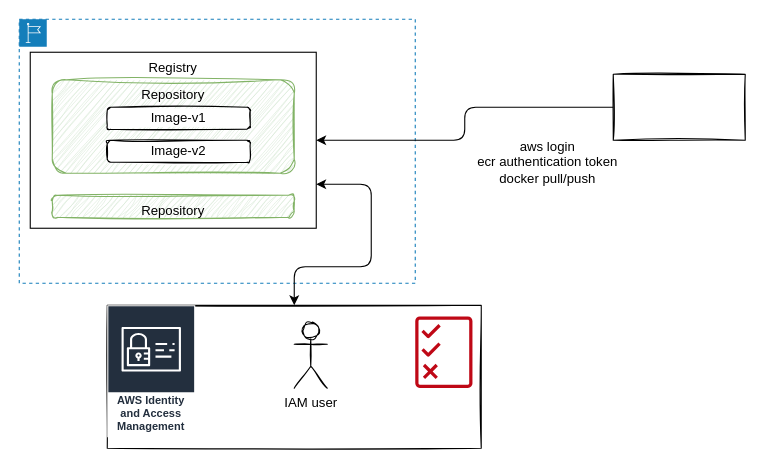
This 765x468 diagram has some shape labels left out. Here are the shapes that lost their labels. From the top down, the box of each, then its label:
(612, 73, 745, 140): Remote Environment
(18, 18, 415, 283): Region
(415, 316, 472, 388): IAM Policy
